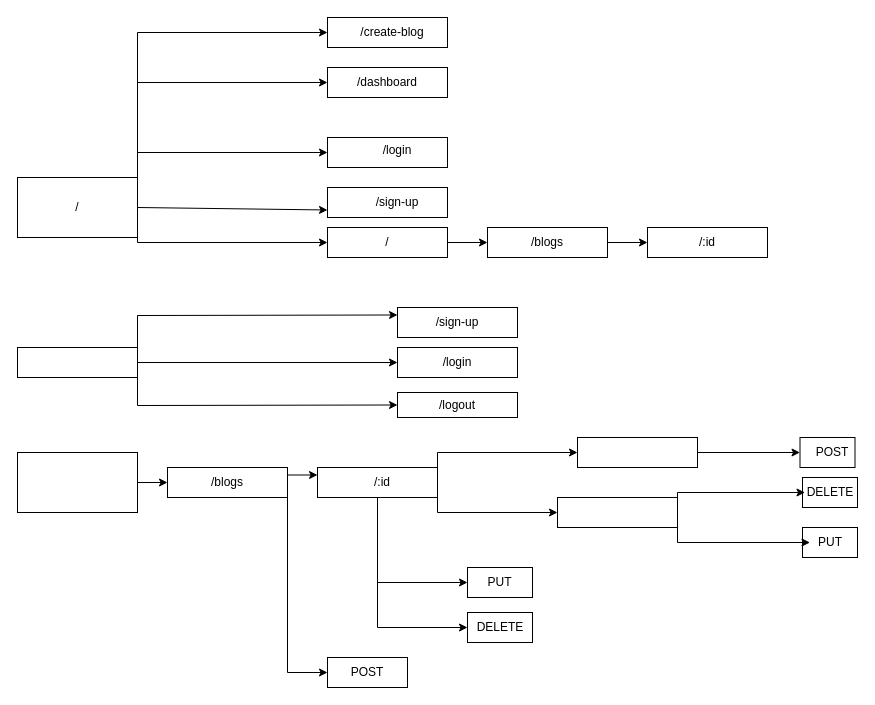
Some shapes in this 875 by 705 pixel diagram are drawn without their labels. Here are the shapes that lost their labels. From the top down, the centre of each, then its label:
pixel 77 362: /auth
pixel 637 452: /comment
pixel 77 482: /api
pixel 617 512: /comments/:id
